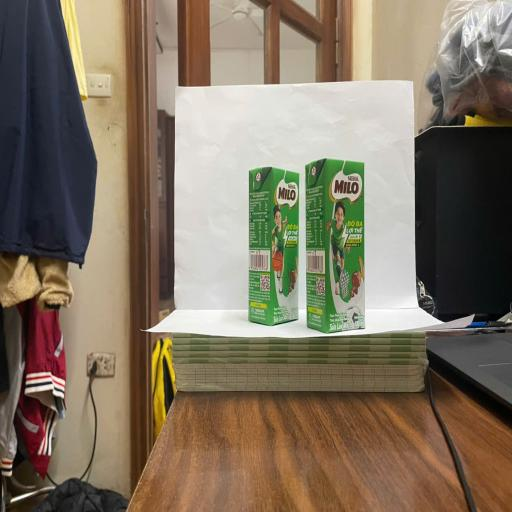milo: (304, 158, 365, 332), (248, 168, 299, 327)
